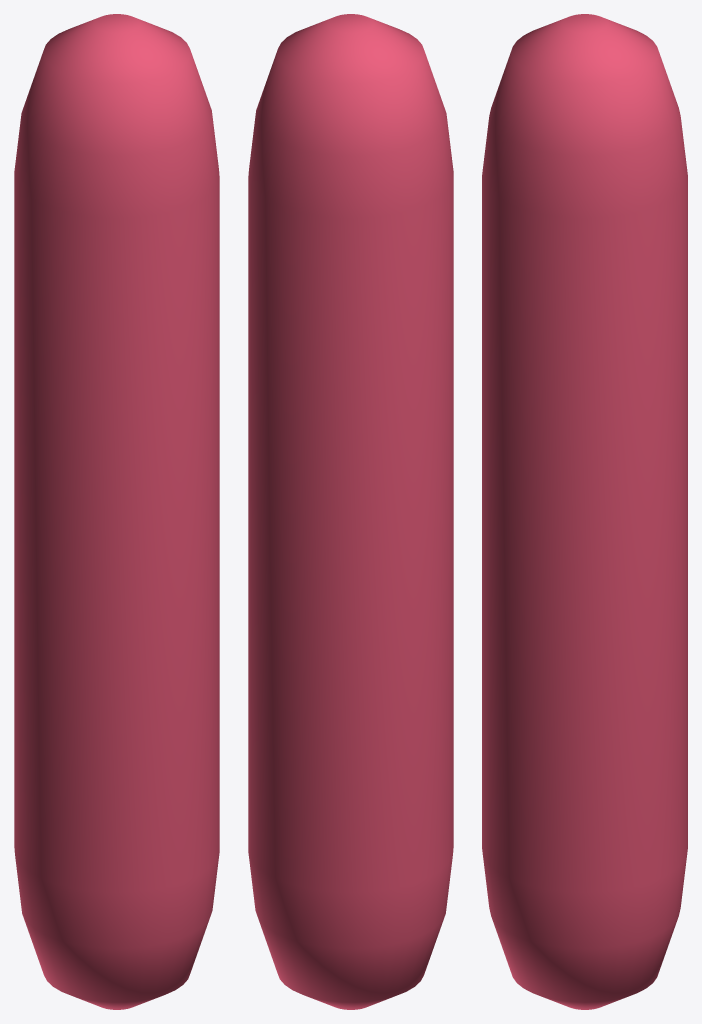
The model's file is sausage.glb.
3 renders of one model, left to right at view 1: azimuth 30°, elevation 25°; view 2: azimuth 150°, elevation 25°; view 3: azimuth 270°, elevation 25°, orthographic.
Visible parts, largest first — view 1: Sausage; view 2: Sausage; view 3: Sausage.
Part boxes in pixels (bbox=[...]): Sausage: bbox=[14, 14, 219, 1009]; Sausage: bbox=[248, 14, 453, 1009]; Sausage: bbox=[482, 14, 687, 1009].
Size of the model in its own units: 0.1383 by 0.7243 by 0.1383.
